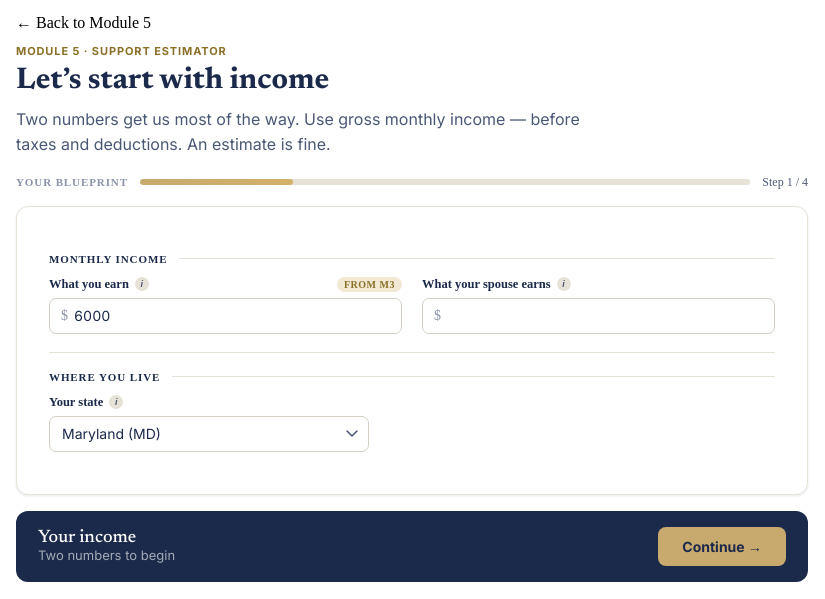
Support Estimator wizard flow › drops the "From M3" attribution once the prefilled income is overridden
Expected: the text "From M3" is shown, [337,277,402,292]
Replace the text in the field with test id "wizard-field-input" showing "What you earn" with "7500" at (226, 316), box [49,298,402,334]
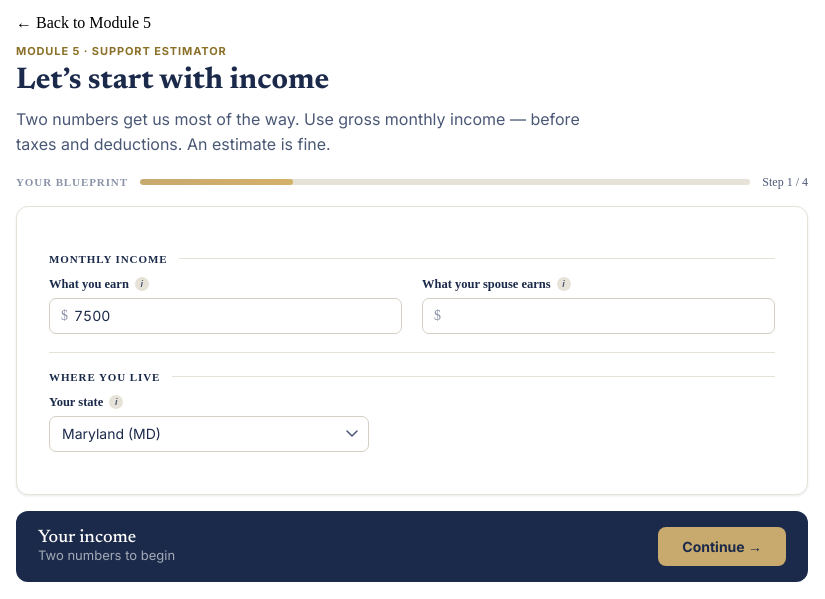
Expected: the text "From M3" is gone
